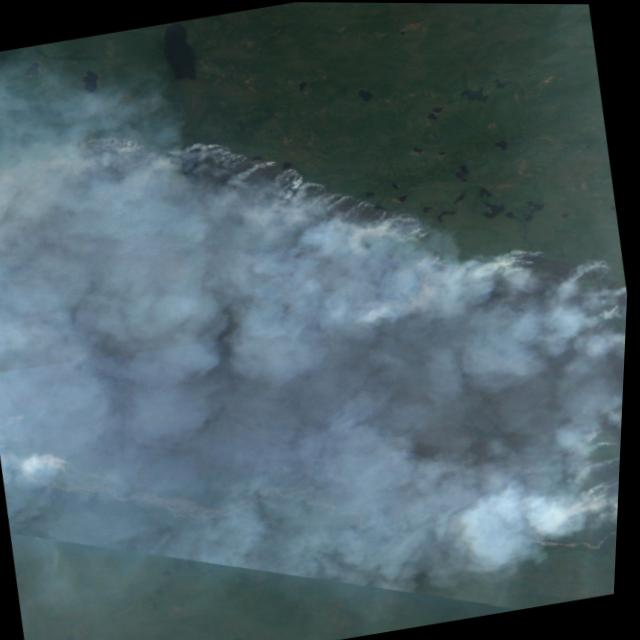fire: (0, 43, 638, 640)
